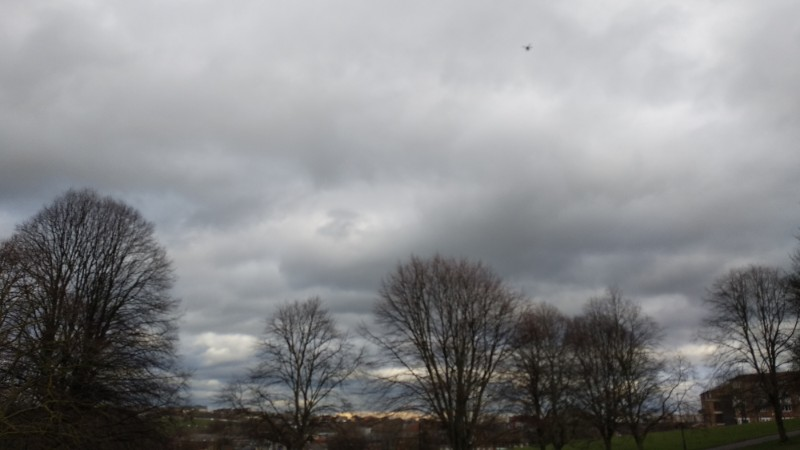drone: (521, 44, 534, 53)
